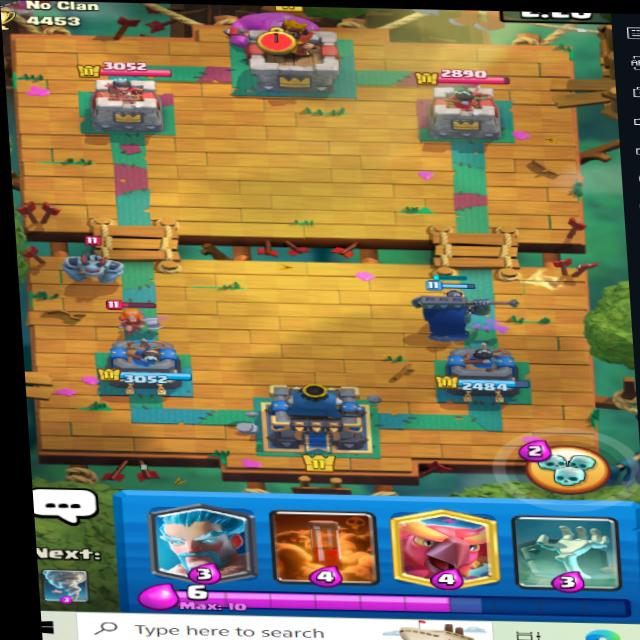electro-golem: (217, 5, 331, 48)
mega-minion: (54, 234, 132, 289)
valkyrie: (98, 296, 185, 343)
